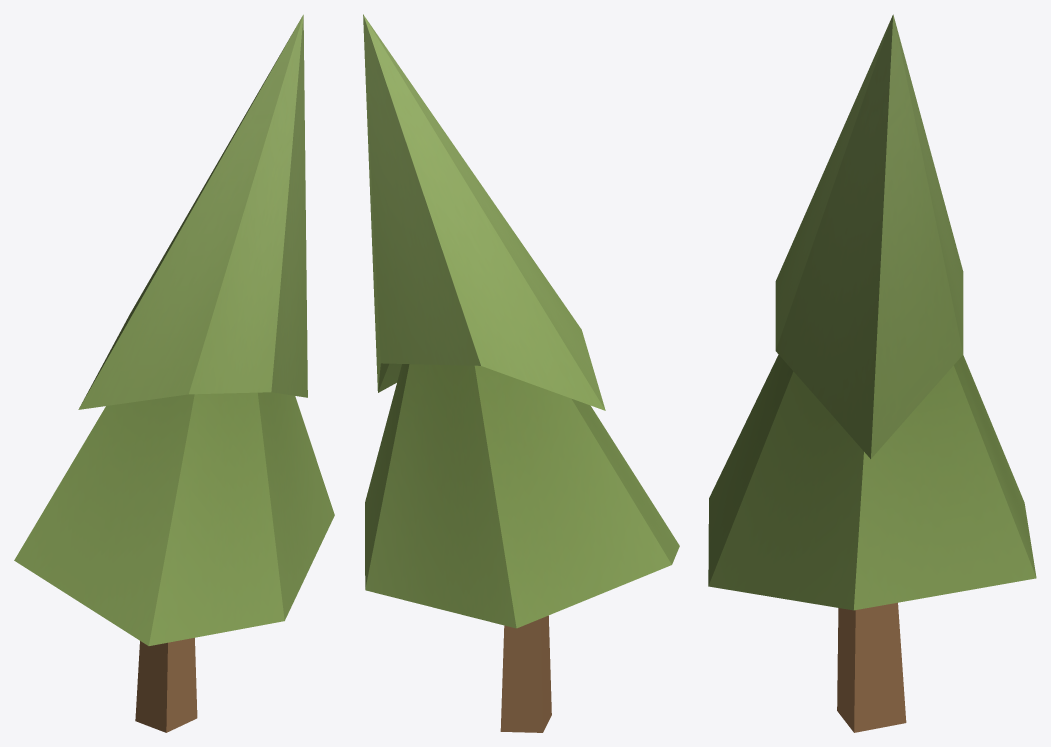
Rendered from Pine_Tree_s_10_LOD.fbx.
The picture shows the model from 3 angles, left to right: view 1: azimuth 30°, elevation 25°; view 2: azimuth 150°, elevation 25°; view 3: azimuth 270°, elevation 25°; orthographic projection. The views are drawn at different scales.
Visible parts, largest first — view 1: Pine_Tree_s_10_LOD0; view 2: Pine_Tree_s_10_LOD0; view 3: Pine_Tree_s_10_LOD0.
Boxes of the visible parts, left/top/right/bottom form: Pine_Tree_s_10_LOD0: left=14, top=14, right=334, bottom=732; Pine_Tree_s_10_LOD0: left=363, top=14, right=679, bottom=732; Pine_Tree_s_10_LOD0: left=708, top=14, right=1036, bottom=732.
Size of what is drawn, in the model's own units: 73.98 by 151 by 56.8.
